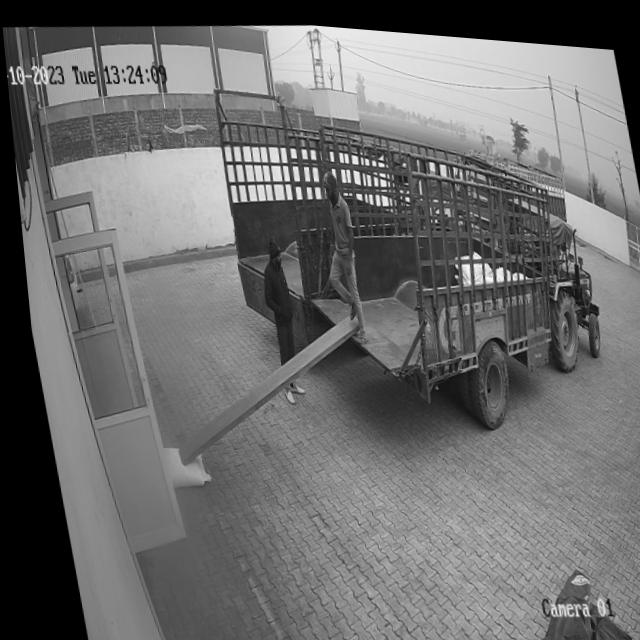sack: (154, 441, 203, 489)
